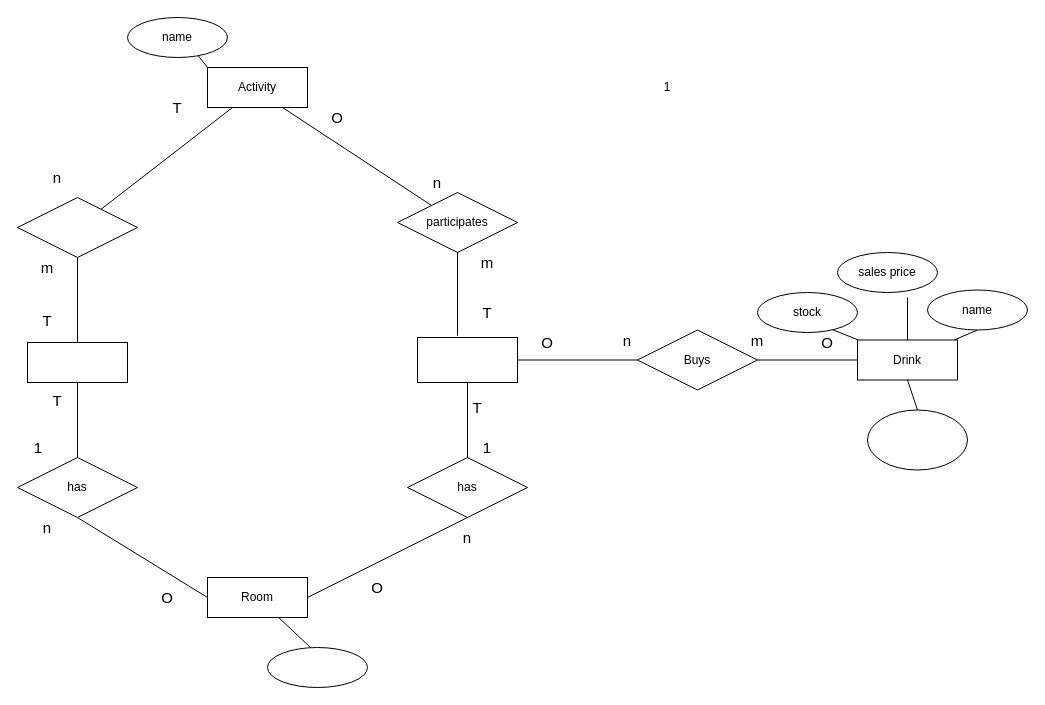
Some shapes in this 1045 by 705 pixel diagram are drawn without their labels. The shapes that lost their labels are listed below. From the top down, each one's centre as x and y in pixels, then its label:
point 77,227: Supervises
point 77,362: Teacher
point 467,359: Student
point 917,439: Drink type
point 317,667: type
